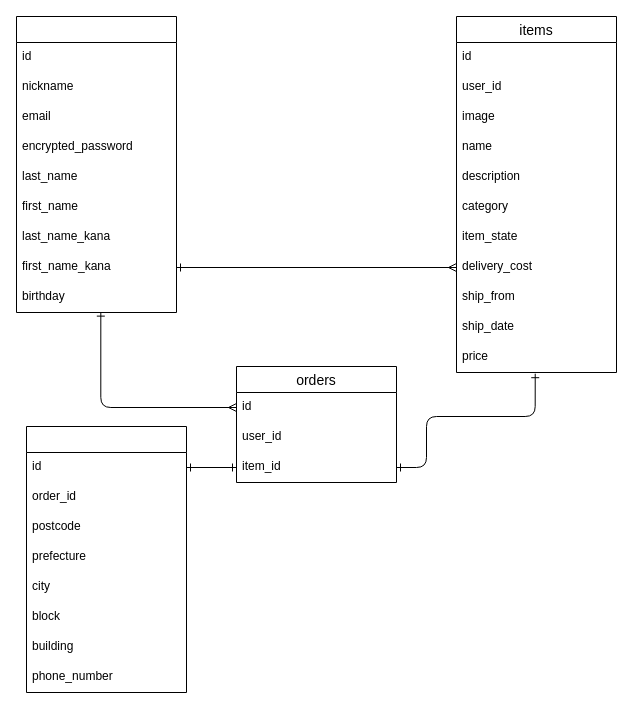
Image size: 633x709. Some labels were removed from this diagram. Each missing label, with the box of its shape:
purchases: (26, 426, 186, 692)
users: (16, 16, 176, 312)
